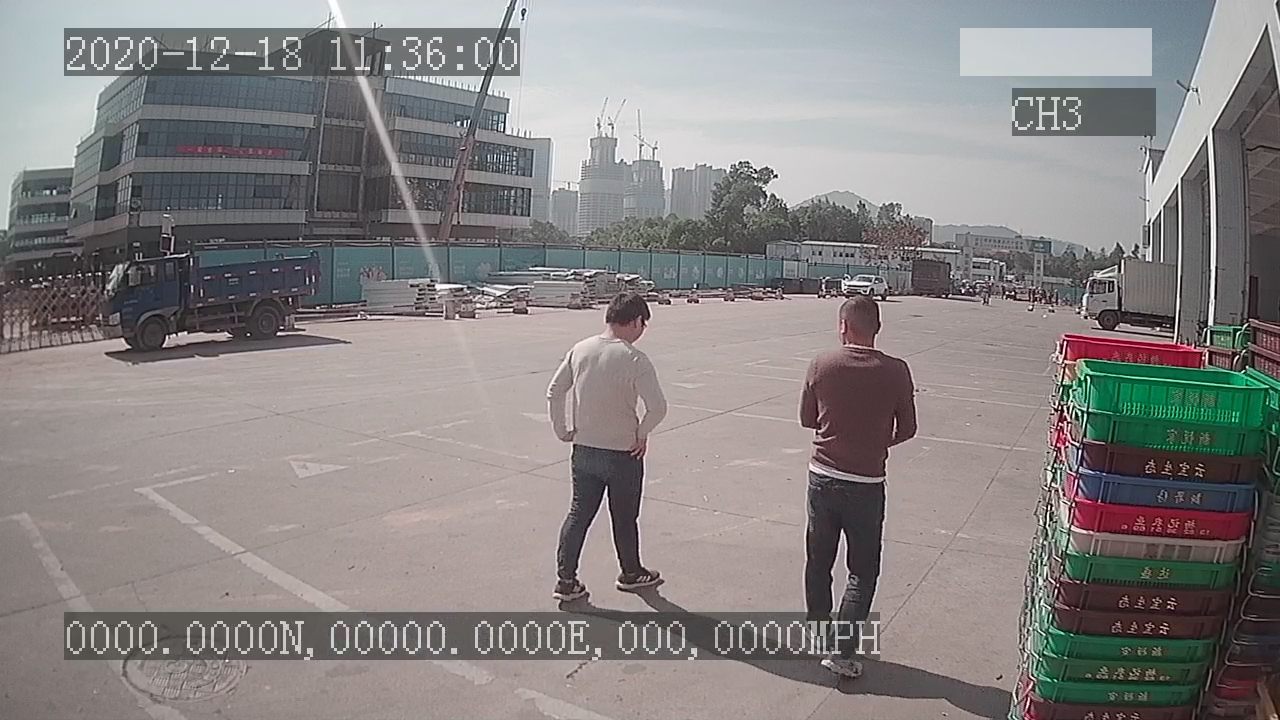person: (545, 296, 677, 601)
